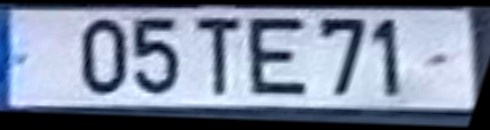0: (77, 19, 127, 100)
1: (369, 16, 403, 102)
5: (131, 17, 183, 98)
7: (317, 16, 373, 100)
E: (244, 16, 311, 101)
T: (195, 16, 246, 102)
